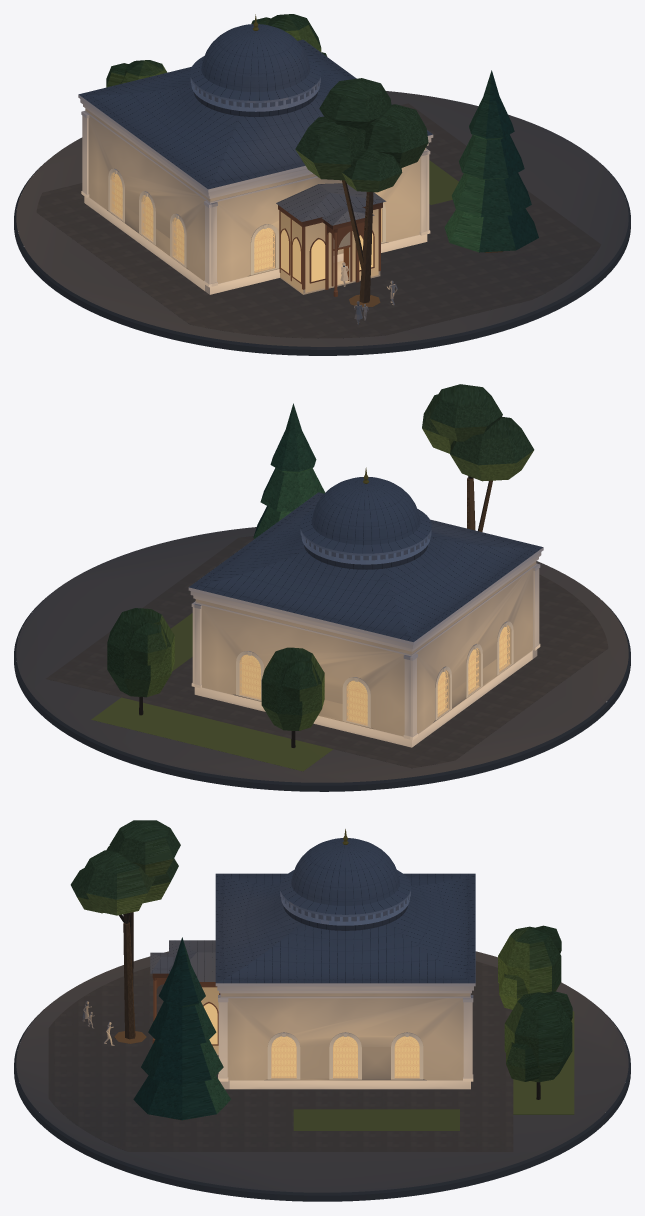
Rendered from orhan-gazi-turbesi_v06_night_sunum.glb.
The picture shows the model from 3 angles, top to bottom: view 1: azimuth 30°, elevation 25°; view 2: azimuth 150°, elevation 25°; view 3: azimuth 270°, elevation 25°; orthographic projection.
Parts seen in each view (by area): view 1: Zemin_Doseme, Zemin_Kaide, Govde, Kubbe, Cevre_Agac_01, Cevre_Agac_04, Giris_Holu, Zemin_Cim, Cevre_Agac_02, Cevre_Agac_03; view 2: Zemin_Kaide, Govde, Kubbe, Zemin_Doseme, Cevre_Agac_01, Zemin_Cim, Cevre_Agac_02, Cevre_Agac_03, Cevre_Agac_04; view 3: Zemin_Doseme, Zemin_Kaide, Kubbe, Govde, Cevre_Agac_04, Cevre_Agac_01, Zemin_Cim, Cevre_Agac_02, Cevre_Agac_03, Giris_Holu.
Boxes of the visible parts, left/top/right/bottom form: Zemin_Doseme: left=36, top=103, right=601, bottom=338; Zemin_Kaide: left=14, top=91, right=630, bottom=355; Govde: left=78, top=94, right=433, bottom=294; Kubbe: left=79, top=14, right=432, bottom=189; Cevre_Agac_01: left=295, top=78, right=428, bottom=303; Cevre_Agac_04: left=444, top=70, right=538, bottom=252; Giris_Holu: left=276, top=183, right=386, bottom=296; Zemin_Cim: left=349, top=160, right=502, bottom=307; Cevre_Agac_02: left=251, top=14, right=327, bottom=56; Cevre_Agac_03: left=106, top=60, right=167, bottom=87; Zemin_Kaide: left=14, top=527, right=630, bottom=791; Govde: left=188, top=547, right=543, bottom=747; Kubbe: left=189, top=467, right=542, bottom=641; Zemin_Doseme: left=46, top=536, right=608, bottom=768; Cevre_Agac_01: left=422, top=384, right=534, bottom=531; Zemin_Cim: left=91, top=613, right=333, bottom=771; Cevre_Agac_02: left=107, top=608, right=174, bottom=715; Cevre_Agac_03: left=261, top=647, right=324, bottom=747; Cevre_Agac_04: left=253, top=403, right=325, bottom=538; Zemin_Doseme: left=48, top=961, right=513, bottom=1151; Zemin_Kaide: left=14, top=951, right=630, bottom=1201; Kubbe: left=215, top=829, right=475, bottom=983; Govde: left=215, top=874, right=475, bottom=1089; Cevre_Agac_04: left=133, top=937, right=230, bottom=1120; Cevre_Agac_01: left=70, top=820, right=180, bottom=1039; Zemin_Cim: left=114, top=1011, right=574, bottom=1130; Cevre_Agac_02: left=504, top=991, right=572, bottom=1099; Cevre_Agac_03: left=498, top=925, right=561, bottom=1009; Giris_Holu: left=150, top=940, right=220, bottom=1055.
Size of the model in its own units: 41.56 by 16.5 by 41.56.
Materials: 31 (9 with a texture image).
